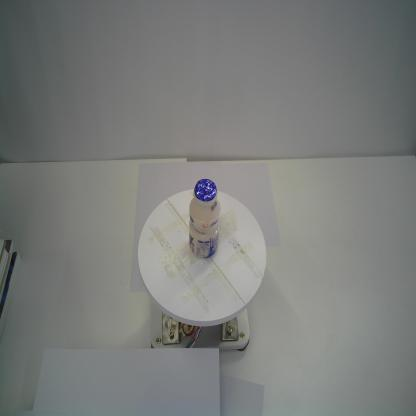Milk: (188, 176, 221, 259)
